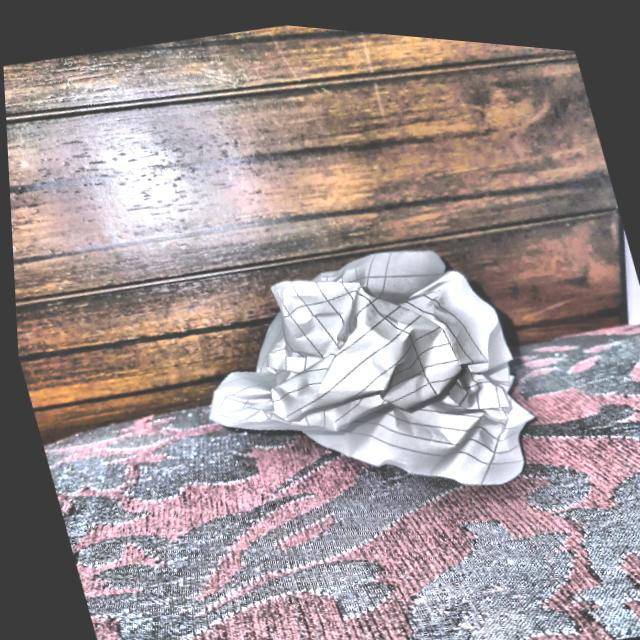Paper: (157, 207, 550, 545)
